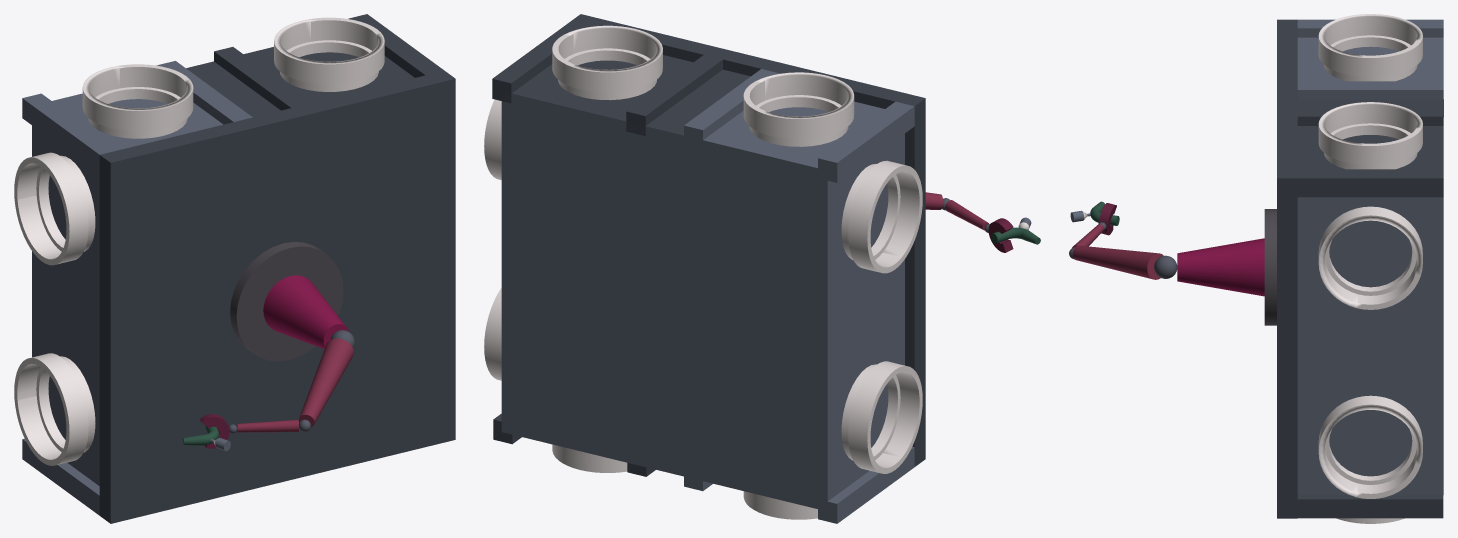
Rendered from farbsprueher.gltf.
3 renders of one model, left to right at view 1: azimuth 30°, elevation 25°; view 2: azimuth 150°, elevation 25°; view 3: azimuth 270°, elevation 25°, orthographic. The views are drawn at different scales.
Visible parts, largest first — view 1: table_top, table_side_back, Cylinder, pipe_exit_back, pipe_exit_right_2, pipe_exit_right_1, pipe_entrance_back, Cylinder.001, table_leg_back_right, table_side_right, table_side_right.002, table_leg_back_left.005 (+10 smaller); view 2: table_side_bottom, table_side_back, table_top, pipe_exit_right_2, pipe_exit_back, pipe_exit_right_1, pipe_entrance_back, table_leg_back_right, table_side_right, table_side_right.002, table_leg_back_left.005, table_side_right.004 (+11 smaller); view 3: table_side_front, table_top, pipe_exit_right_1, pipe_exit_right_2, table_leg_back_left.004, Cylinder.001, pipe_exit_front, pipe_entrance_front, table_leg_back_left.007, table_side_right, table_leg_front_right, table_side_right.002 (+10 smaller).
Boxes of the visible parts, bbox=[...] form: table_top: bbox=[99, 70, 455, 523]; table_side_back: bbox=[32, 125, 99, 485]; Cylinder: bbox=[230, 241, 343, 361]; pipe_exit_back: bbox=[14, 152, 88, 265]; pipe_exit_right_2: bbox=[82, 64, 193, 130]; pipe_exit_right_1: bbox=[274, 17, 384, 84]; pipe_entrance_back: bbox=[14, 353, 88, 465]; Cylinder.001: bbox=[263, 275, 348, 348]; table_leg_back_right: bbox=[22, 93, 118, 174]; table_side_right: bbox=[52, 93, 222, 149]; table_side_right.002: bbox=[243, 47, 414, 103]; table_leg_back_left.005: bbox=[214, 47, 310, 110]; table_side_bottom: bbox=[501, 91, 827, 510]; table_side_back: bbox=[827, 133, 904, 500]; table_top: bbox=[570, 14, 925, 466]; pipe_exit_right_2: bbox=[743, 72, 854, 139]; pipe_exit_back: bbox=[848, 160, 922, 273]; pipe_exit_right_1: bbox=[552, 25, 662, 92]; pipe_entrance_back: bbox=[848, 361, 922, 473]; table_leg_back_right: bbox=[818, 101, 914, 182]; table_side_right: bbox=[703, 101, 884, 168]; table_side_right.002: bbox=[512, 55, 692, 121]; table_leg_back_left.005: bbox=[626, 55, 722, 135]; table_side_right.004: bbox=[645, 69, 750, 135]; table_side_front: bbox=[1297, 197, 1443, 495]; table_top: bbox=[1277, 19, 1297, 518]; pipe_exit_right_1: bbox=[1318, 102, 1422, 164]; pipe_exit_right_2: bbox=[1318, 14, 1422, 76]; table_leg_back_left.004: bbox=[1297, 169, 1443, 197]; Cylinder.001: bbox=[1177, 238, 1264, 296]; pipe_exit_front: bbox=[1318, 206, 1422, 309]; pipe_entrance_front: bbox=[1318, 395, 1422, 498]; table_leg_back_left.007: bbox=[1297, 495, 1443, 518]; table_side_right: bbox=[1297, 37, 1443, 81]; table_leg_front_right: bbox=[1297, 81, 1443, 99]; table_side_right.002: bbox=[1297, 126, 1443, 169].
Size of the model in its own units: 2.01 by 2 by 1.8.
